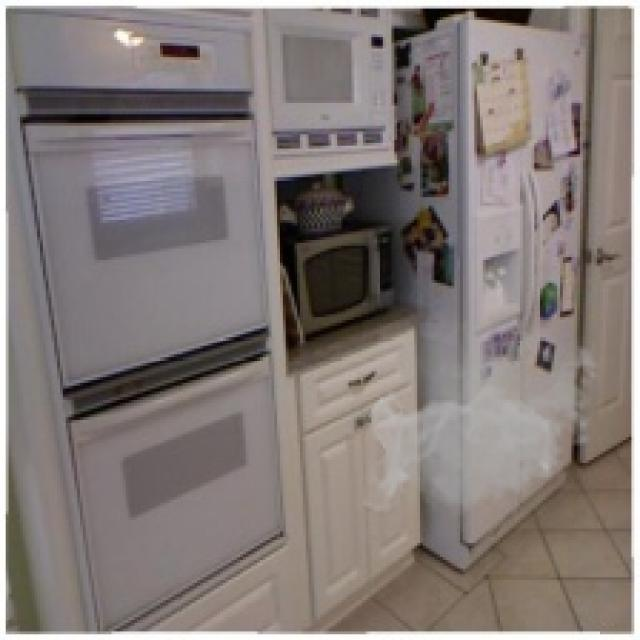smoke: (363, 323, 606, 523)
